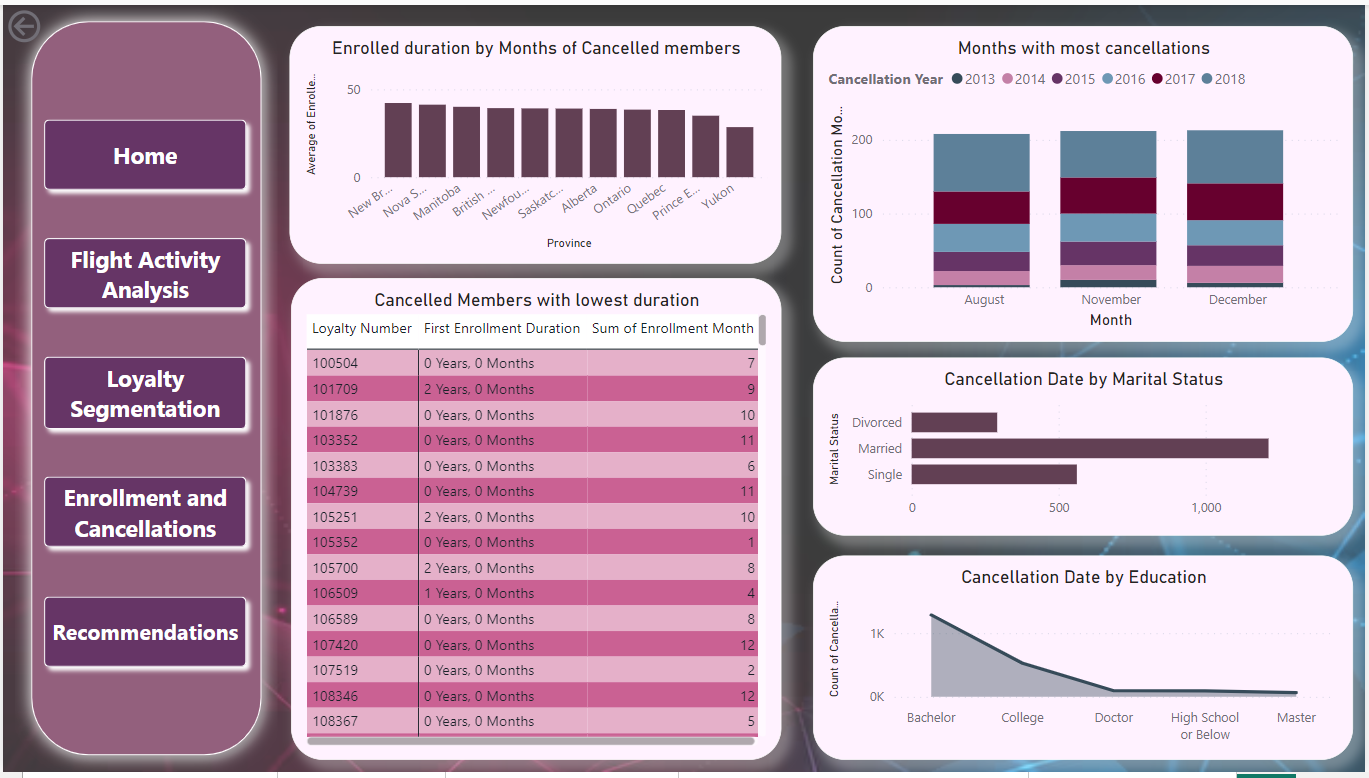

This screenshot's page, from the dashboard's own definition file:
{"tool":"powerbi","page":{"name":"Enrollment and Cancellation Trends","canvas":[1280,720],"ordinal":3},"visuals":[{"type":"shape","box":[10.9,0,246.8,720],"z":0},{"type":"actionButton","box":[0,0,100,40],"z":1000},{"type":"columnChart","title":"Enrolled duration by Months of Cancelled members","fields":{"Category":["Customer Loyalty History.Province"],"Y":["Avg(Customer Loyalty History.Enrolled Months)"]},"box":[268.6,20.3,462.3,223.3],"z":7000},{"type":"columnChart","title":"Months with most cancellations","fields":{"Y":["CountNonNull(Cancelled Members.Cancellation Month)"],"Category":["Cancelled Members.Month Name.Variation.Date Hierarchy.Month"],"Series":["Cancelled Members.Cancellation Year"]},"box":[760.6,20.3,507.6,296.7],"z":8000},{"type":"areaChart","title":"Cancellation Date by Education","fields":{"Category":["Customer Loyalty History.Cancellation Date.Variation.Date Hierarchy.Year","Customer Loyalty History.Cancellation Date.Variation.Date Hierarchy.Month","Customer Loyalty History.Education"],"Y":["CountNonNull(Customer Loyalty History.Cancellation Date)"]},"box":[760.6,517,507.6,192.1],"z":9000},{"type":"clusteredBarChart","title":"Cancellation Date by Marital Status","fields":{"Category":["Customer Loyalty History.Cancellation Date.Variation.Date Hierarchy.Year","Customer Loyalty History.Cancellation Date.Variation.Date Hierarchy.Month","Customer Loyalty History.Marital Status"],"Y":["CountNonNull(Customer Loyalty History.Cancellation Date)"]},"box":[760.6,331.1,507.6,167.1],"z":10000},{"type":"pivotTable","title":"Cancelled Members with lowest duration","fields":{"Rows":["Cancelled Members.Loyalty Number"],"Values":["Min(Cancelled Members.Enrollment Duration)","Sum(Cancelled Members.Enrollment Month)"]},"box":[270.2,256.1,460.7,452.9],"z":11000},{"type":"shape","box":[30,209.5,208,84],"z":11001},{"type":"shape","box":[30,434.5,208,84],"z":11002},{"type":"shape","box":[30,321,208,86],"z":11003},{"type":"shape","box":[30,546,208,84],"z":11004},{"type":"shape","box":[30,98,208,84],"z":11005}]}

Visuals, with their boxes in screenshot pixels (x1, y1, x2, y2), scaled from the page's 1280x720 canvas onto the 1369x778 screenshot:
shape: [12, 0, 276, 777]
actionButton: [0, 0, 107, 43]
"Enrolled duration by Months of Cancelled members" columnChart: [287, 22, 782, 263]
"Months with most cancellations" columnChart: [813, 22, 1356, 343]
"Cancellation Date by Education" areaChart: [813, 559, 1356, 766]
"Cancellation Date by Marital Status" clusteredBarChart: [813, 358, 1356, 538]
"Cancelled Members with lowest duration" pivotTable: [289, 277, 782, 766]
shape: [32, 226, 255, 317]
shape: [32, 470, 255, 560]
shape: [32, 347, 255, 440]
shape: [32, 590, 255, 681]
shape: [32, 106, 255, 197]
